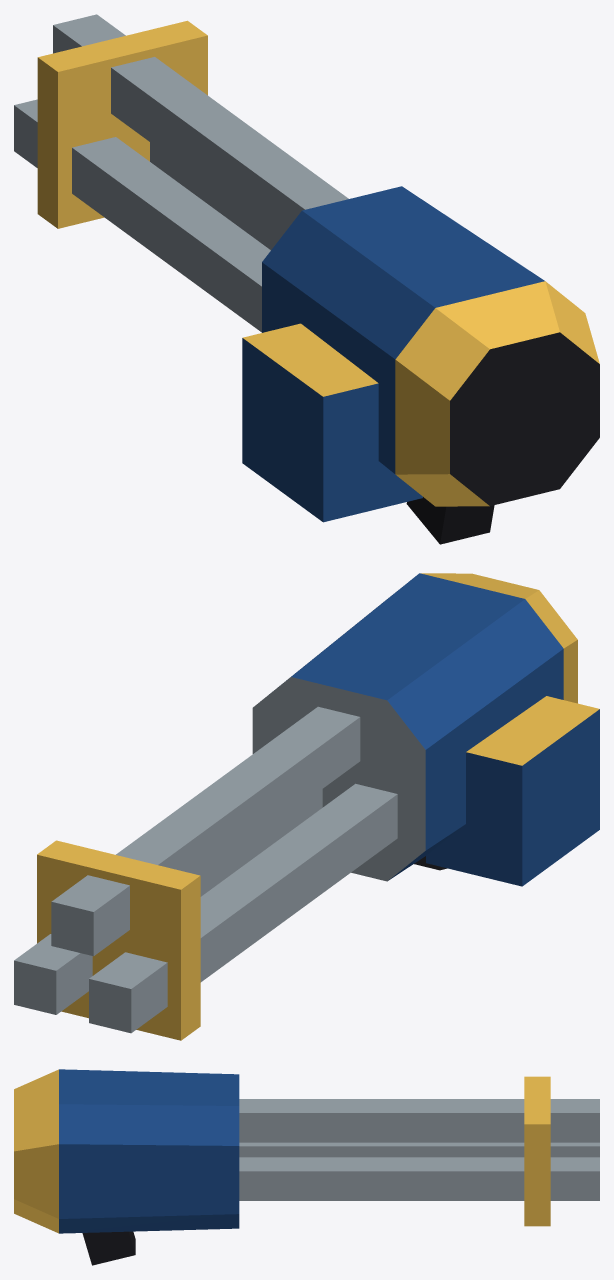
Rendered from wpn_gatling.glb.
3 views of the same model, one above another, from view 1: azimuth 30°, elevation 25°; view 2: azimuth 150°, elevation 25°; view 3: azimuth 270°, elevation 25° (orthographic). The views are drawn at different scales.
Visible parts, largest first — view 1: wpn_gatling; view 2: wpn_gatling; view 3: wpn_gatling.
Boxes of the visible parts, x1,y1,x2,y2 form: wpn_gatling: (14,14,599,544); wpn_gatling: (14,573,599,1040); wpn_gatling: (14,1069,599,1265).
Bounding box in the file's own units: 0.3539 × 0.3627 × 1.13.
Materials: 1 (1 with a texture image).
